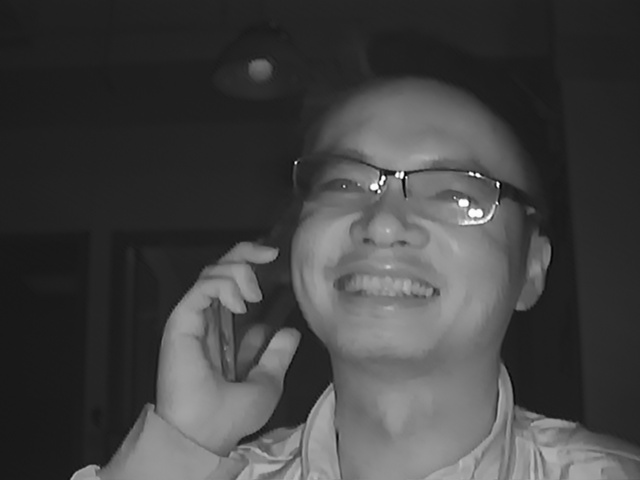hand: (153, 236, 299, 438)
